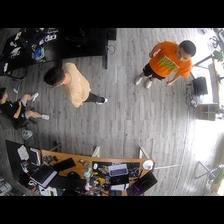normal: (135, 40, 196, 88), (45, 62, 108, 108), (1, 88, 50, 126)
